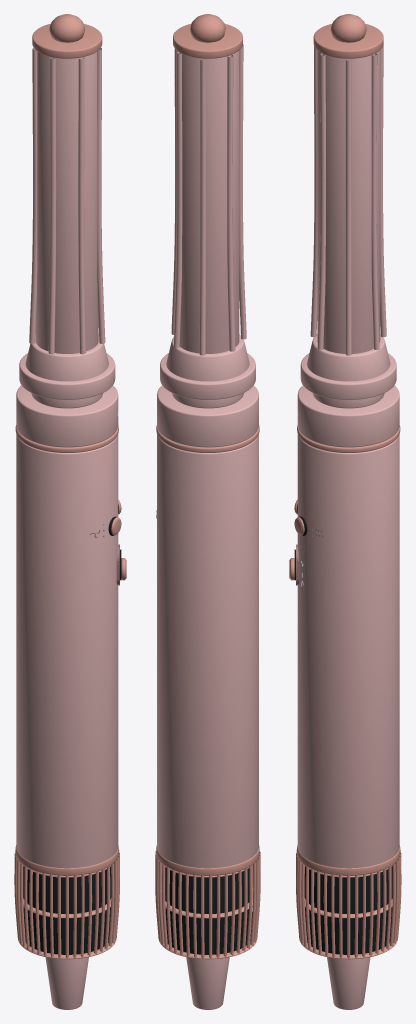
The picture shows the model from 3 angles, left to right: view 1: azimuth 90°, elevation 25°; view 2: azimuth 210°, elevation 25°; view 3: azimuth 270°, elevation 25°; orthographic projection.
Visible parts, largest first — view 1: Handle pearlescent body, Curl barrel core, Attachment collar, Intake dark core, Curl base, CURL_LEFT locking collar, Longitudinal airflow ridge.004, Cable exit, Longitudinal airflow ridge.003, Longitudinal airflow ridge.002, Longitudinal airflow ridge.005, Rose gold barrel cap (+20 smaller); view 2: Handle pearlescent body, Curl barrel core, Attachment collar, Intake dark core, Curl base, CURL_LEFT locking collar, Longitudinal airflow ridge.002, Longitudinal airflow ridge.001, Cable exit, Longitudinal airflow ridge, Rose gold barrel cap, Longitudinal airflow ridge.003 (+23 smaller); view 3: Handle pearlescent body, Curl barrel core, Attachment collar, Intake dark core, Curl base, Longitudinal airflow ridge, CURL_LEFT locking collar, Cable exit, Longitudinal airflow ridge.001, Longitudinal airflow ridge.006, Rose gold barrel cap, Longitudinal airflow ridge.005 (+21 smaller).
Part boxes in pixels (box(x1,y1,x2,y2)): Handle pearlescent body: box(16, 434, 118, 868); Curl barrel core: box(35, 51, 98, 353); Attachment collar: box(16, 385, 118, 447); Intake dark core: box(23, 866, 111, 954); Curl base: box(25, 334, 108, 381); CURL_LEFT locking collar: box(19, 353, 115, 399); Longitudinal airflow ridge.004: box(78, 57, 85, 354); Cable exit: box(45, 957, 88, 1009); Longitudinal airflow ridge.003: box(48, 57, 56, 354); Longitudinal airflow ridge.002: box(29, 48, 37, 343); Longitudinal airflow ridge.005: box(97, 48, 105, 343); Rose gold barrel cap: box(32, 23, 102, 58); Handle pearlescent body: box(157, 434, 258, 868); Curl barrel core: box(176, 50, 239, 353); Attachment collar: box(157, 385, 258, 447); Intake dark core: box(165, 867, 252, 954); Curl base: box(166, 334, 249, 381); CURL_LEFT locking collar: box(160, 353, 255, 399); Longitudinal airflow ridge.002: box(227, 55, 235, 351); Longitudinal airflow ridge.001: box(199, 59, 206, 355); Cable exit: box(186, 957, 229, 1009); Longitudinal airflow ridge: box(174, 51, 182, 348); Rose gold barrel cap: box(173, 23, 242, 58); Longitudinal airflow ridge.003: box(239, 44, 246, 339); Handle pearlescent body: box(297, 434, 399, 868); Curl barrel core: box(317, 50, 380, 353); Attachment collar: box(297, 385, 399, 447); Intake dark core: box(304, 866, 392, 954); Curl base: box(307, 334, 390, 381); Longitudinal airflow ridge: box(345, 59, 351, 355); CURL_LEFT locking collar: box(300, 353, 396, 399); Cable exit: box(327, 957, 370, 1009); Longitudinal airflow ridge.001: box(371, 53, 379, 349); Longitudinal airflow ridge.006: box(317, 53, 325, 349); Rose gold barrel cap: box(313, 23, 383, 58); Longitudinal airflow ridge.005: box(310, 46, 317, 337).
Bounding box in the file's own units: 0.0352 × 0.3635 × 0.0374.
